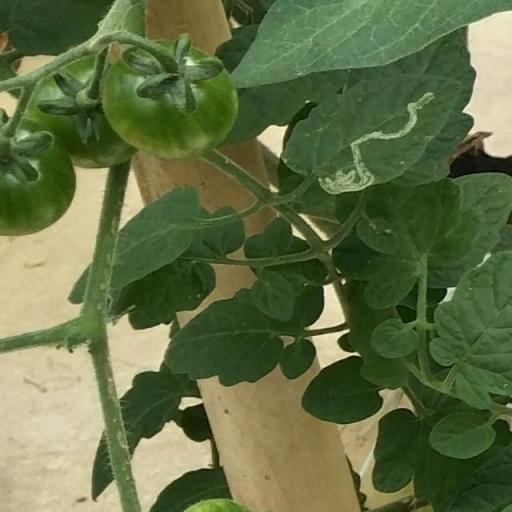Healthy: (224, 0, 511, 88), (427, 246, 512, 412), (163, 288, 284, 386), (110, 185, 201, 286), (300, 356, 384, 426), (428, 412, 497, 460), (250, 273, 296, 323)
Leaf_Miner: (278, 70, 464, 196)
